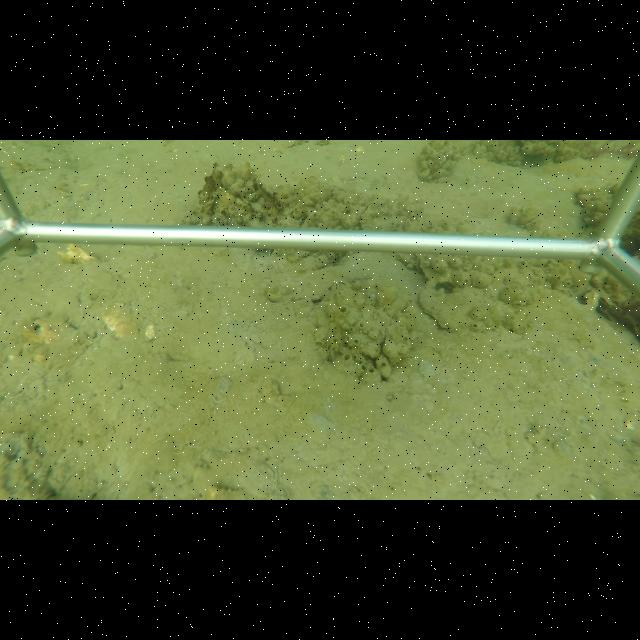Oyster-Closed: (417, 285, 528, 334)
